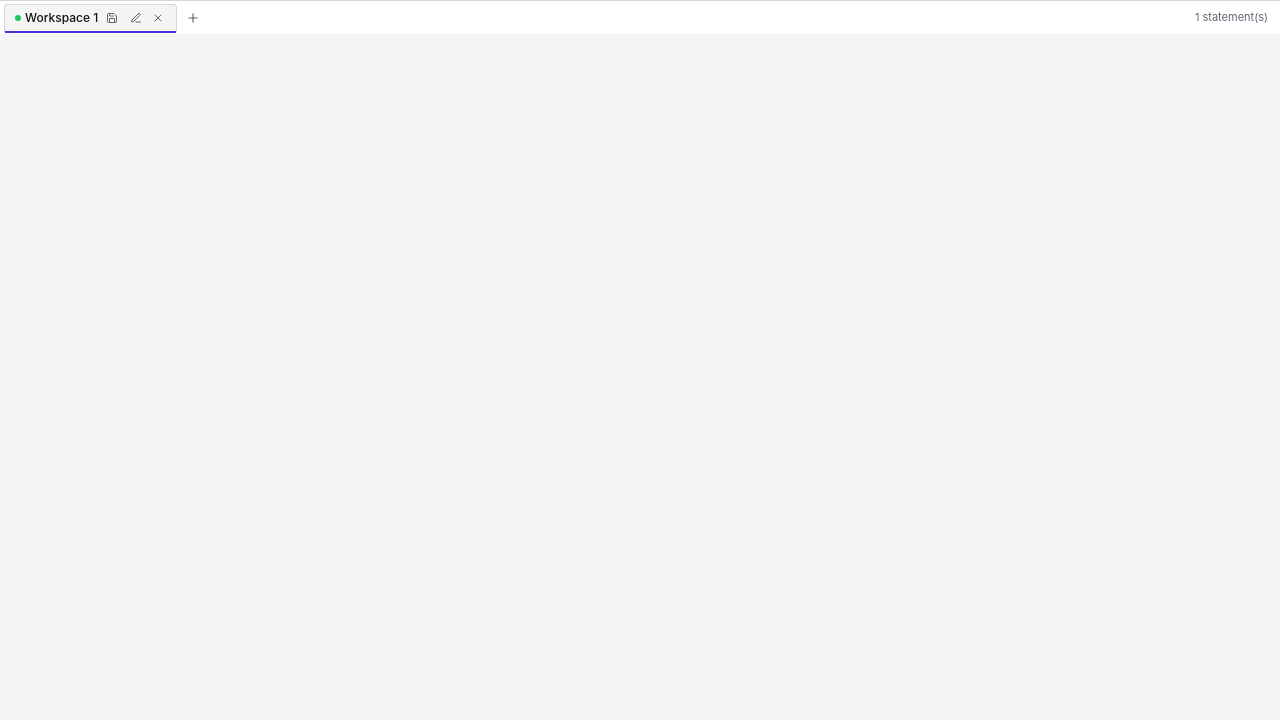
[@tab-bar] TabBar › shows warning dialog when closing tab with running statements
Click the button named "Close Workspace 1": {"x": 158, "y": 18} [150, 10, 166, 26]
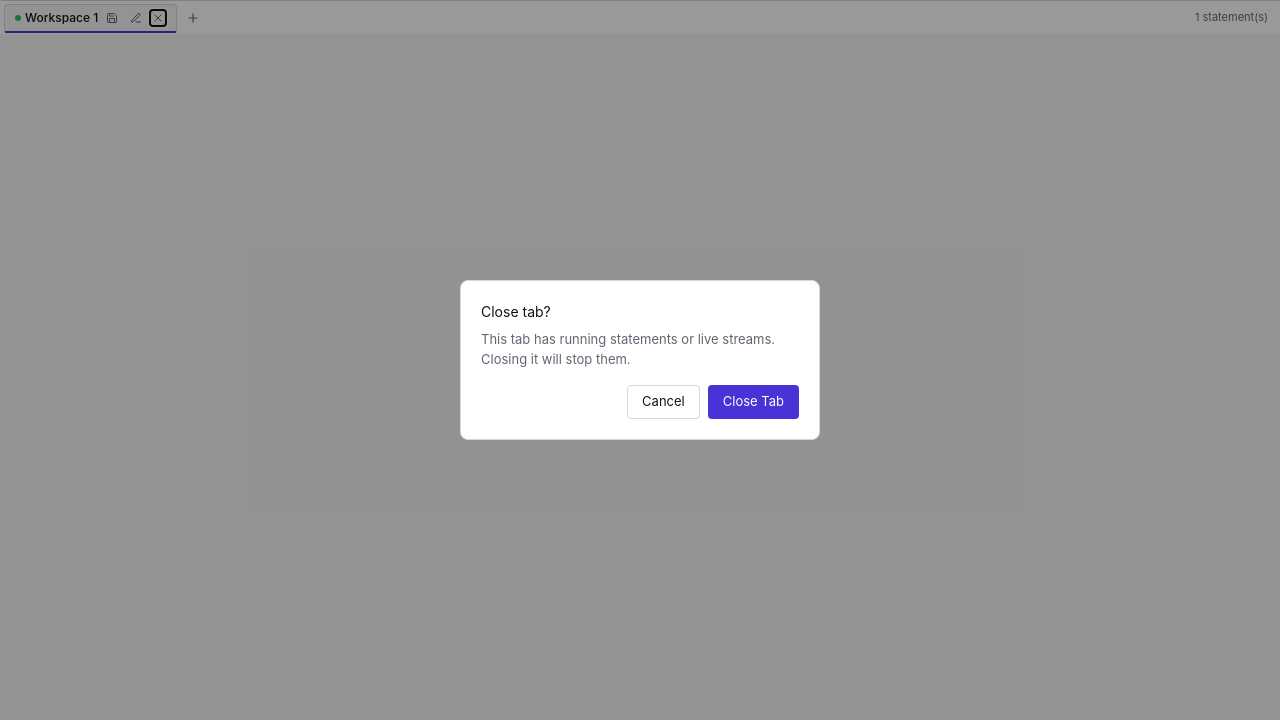
expect the heading "Close tab?" is shown: met, box [481, 303, 551, 320]
expect the text "running statements" is shown: met, box [481, 331, 775, 367]
